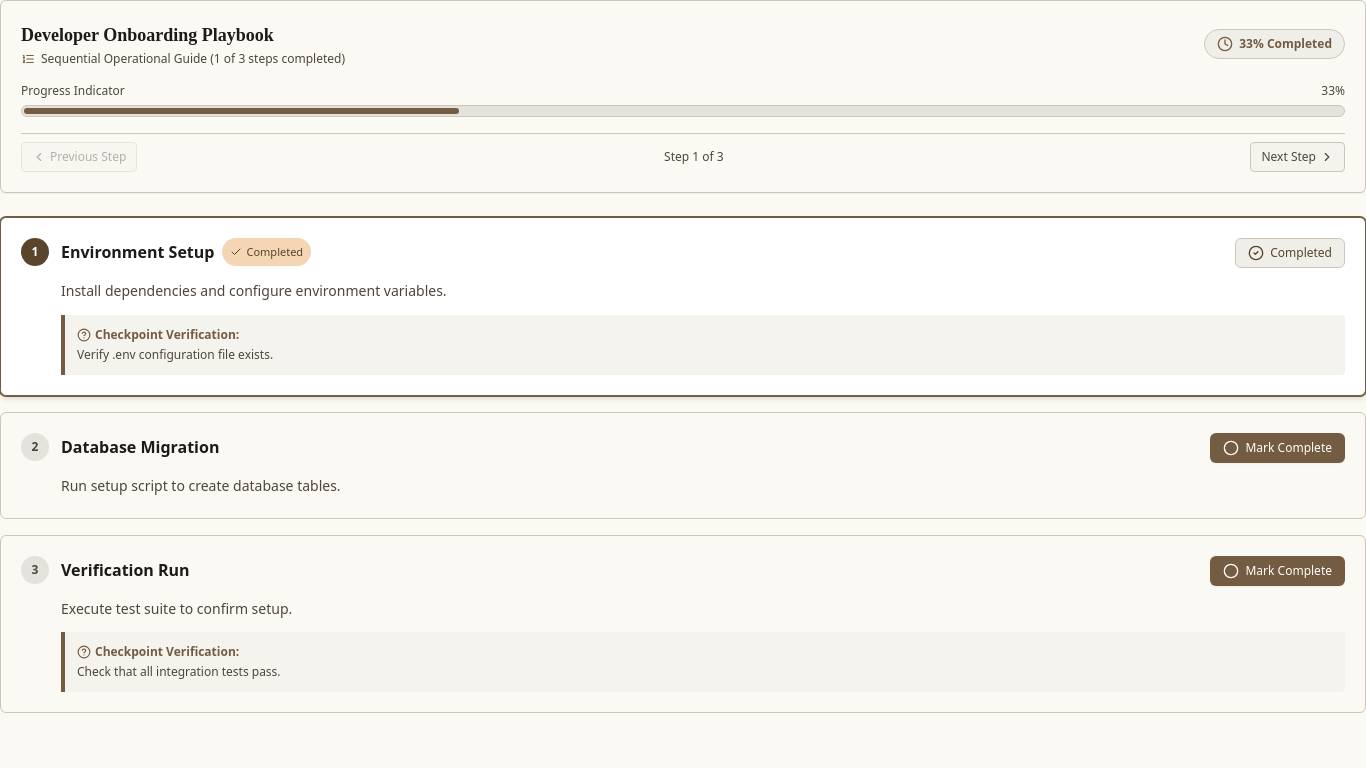
Test: PlaybookProgress Component › allows navigating between steps using Previous and Next Step buttons
Expected: the button with test id "prev-step-btn" is disabled, [21,142,137,172]
Expected: the text with test id "step-counter-text" reads "Step 1 of 3", [664,149,724,165]
Click the button with test id "next-step-btn" at (1298, 157), box [1250,142,1345,172]
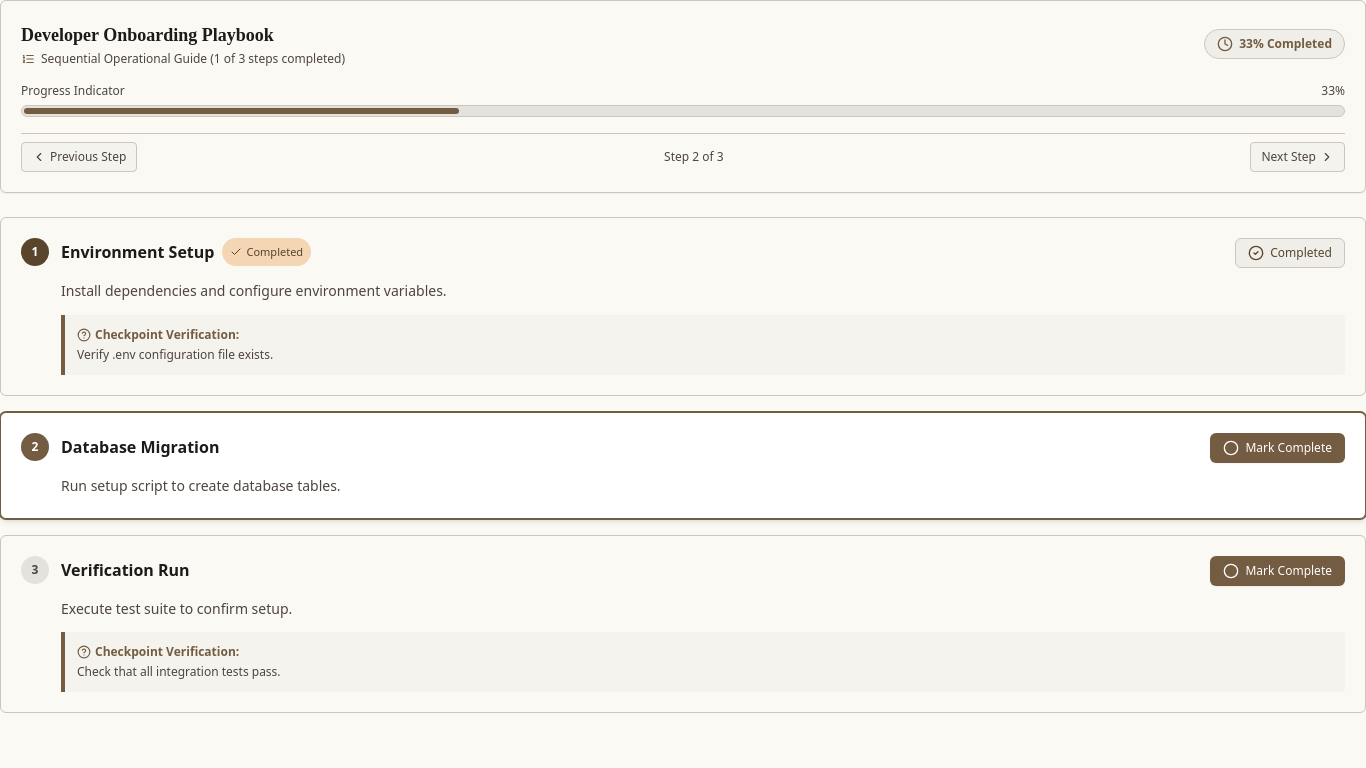
Result: the text with test id "step-counter-text" reads "Step 2 of 3" at [664,149,724,165]
Result: the button with test id "prev-step-btn" is enabled at [21,142,137,172]
